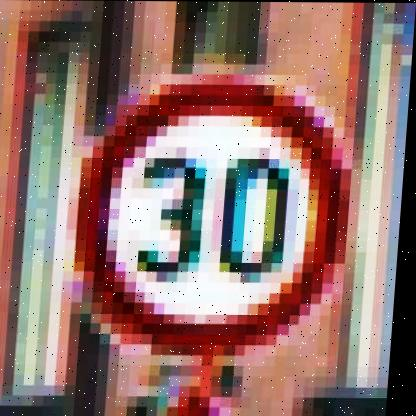Speed Limit -30-: (66, 72, 371, 356)
